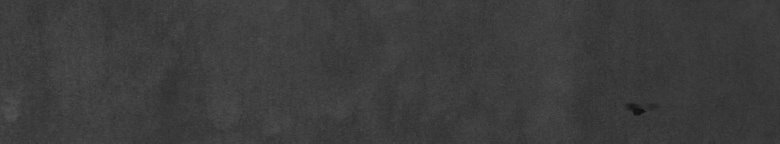fi: (626, 100, 655, 120)
